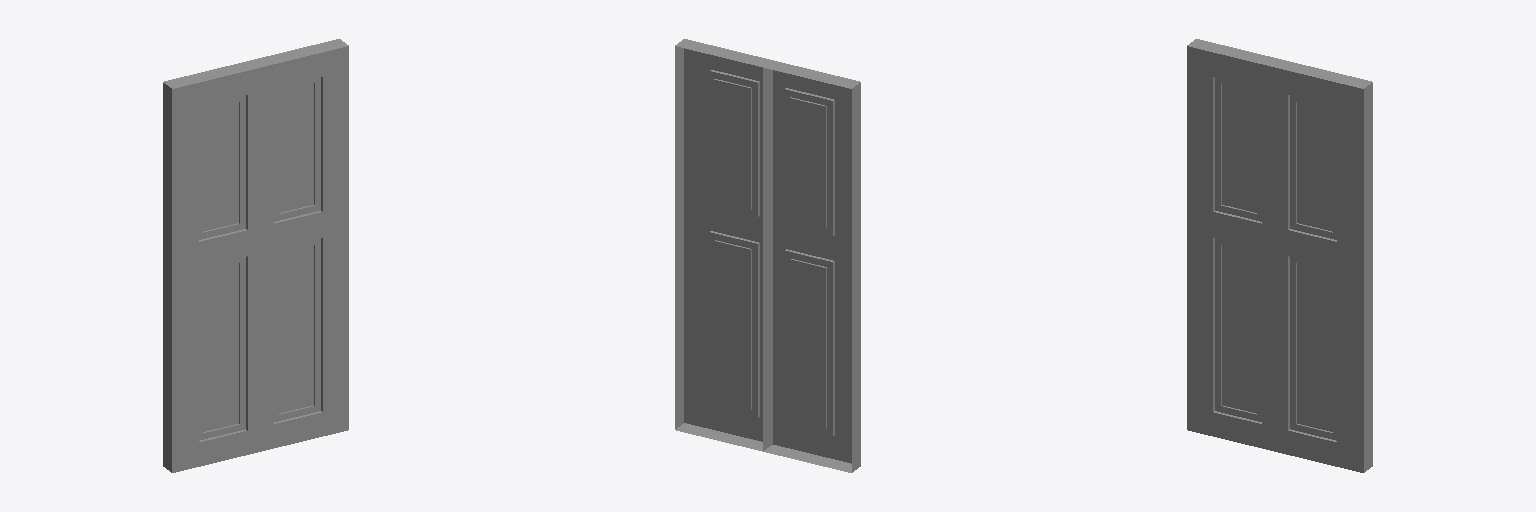
Rendered from Door5.obj.
3 renders of one model, left to right at view 1: azimuth 30°, elevation 25°; view 2: azimuth 150°, elevation 25°; view 3: azimuth 330°, elevation 25°, orthographic.
Parts seen in each view (by area): view 1: Door5_Cube.168; view 2: Door5_Cube.168; view 3: Door5_Cube.168.
Boxes of the visible parts, box(x1,y1,x2,y2) form: Door5_Cube.168: box(163, 39, 348, 472); Door5_Cube.168: box(675, 39, 860, 472); Door5_Cube.168: box(1187, 39, 1372, 472).
Bounding box in the file's own units: 0.4409 × 0.9146 × 0.0429.